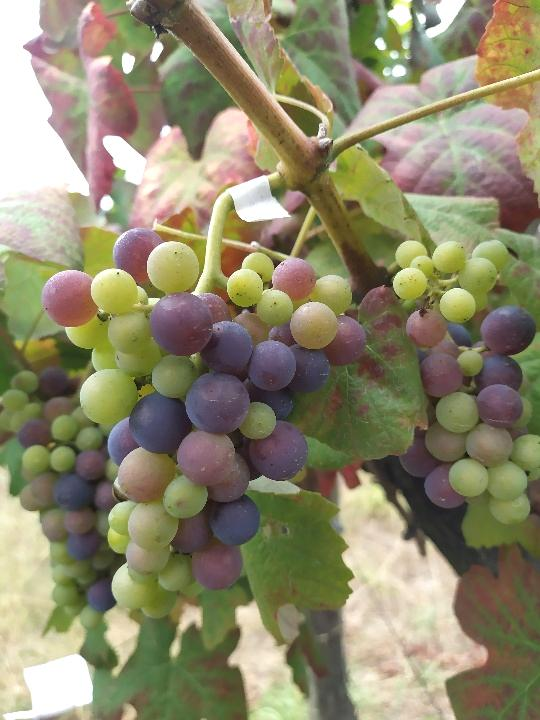grape: (38, 222, 370, 622), (391, 236, 540, 527)
